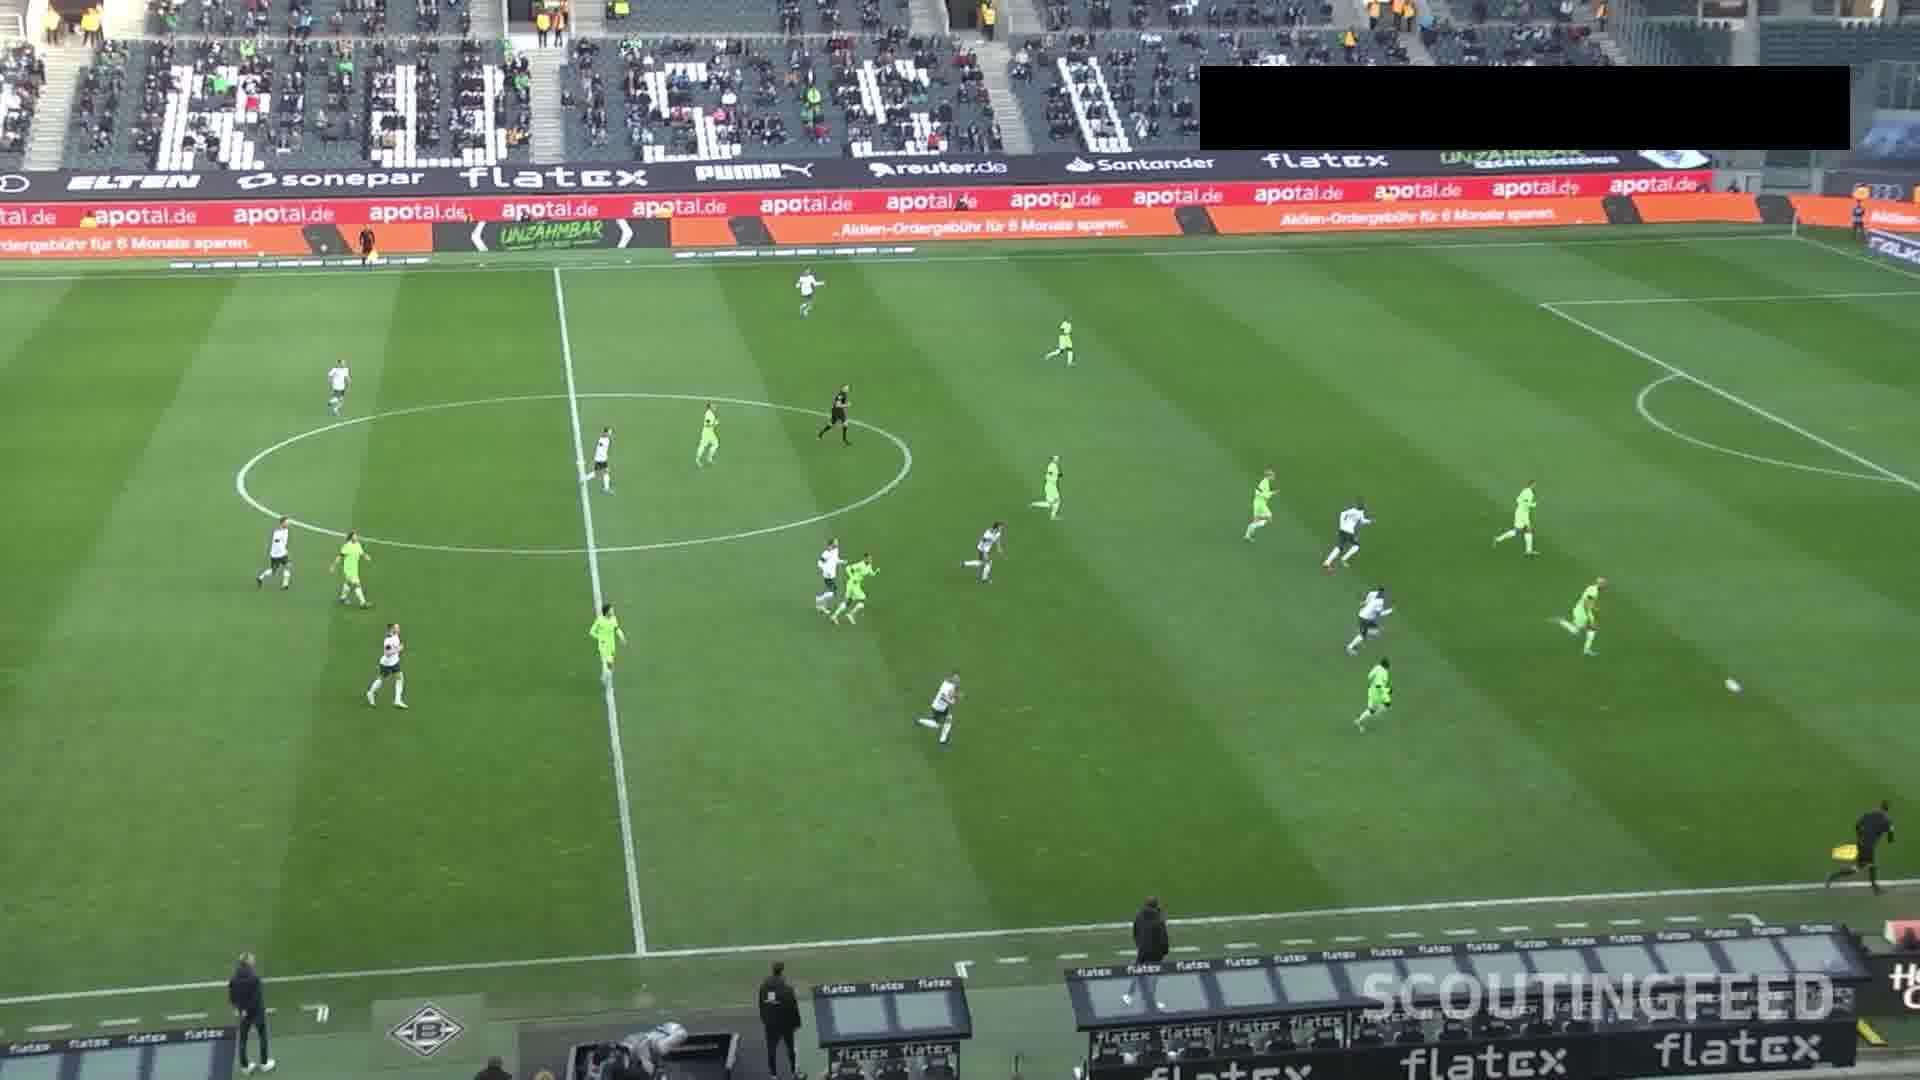football: (1724, 680, 1745, 696)
